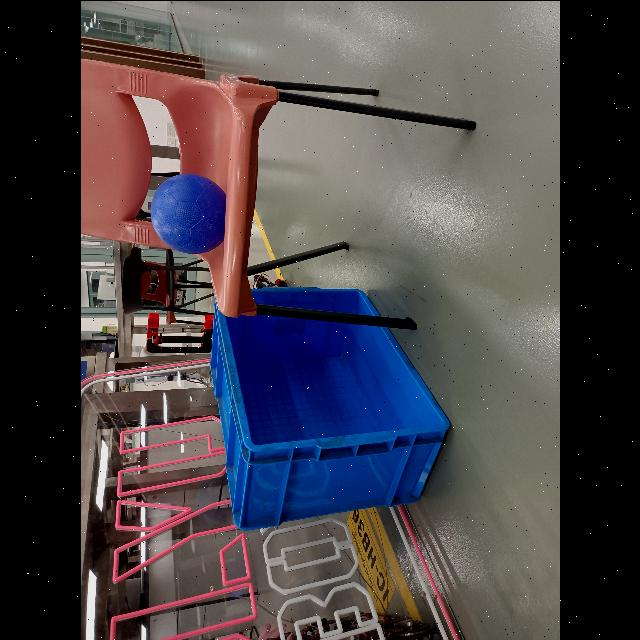B: (150, 173, 227, 253)
